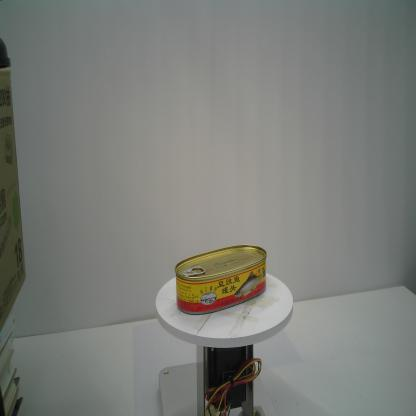Canned Food: (174, 242, 270, 317)
